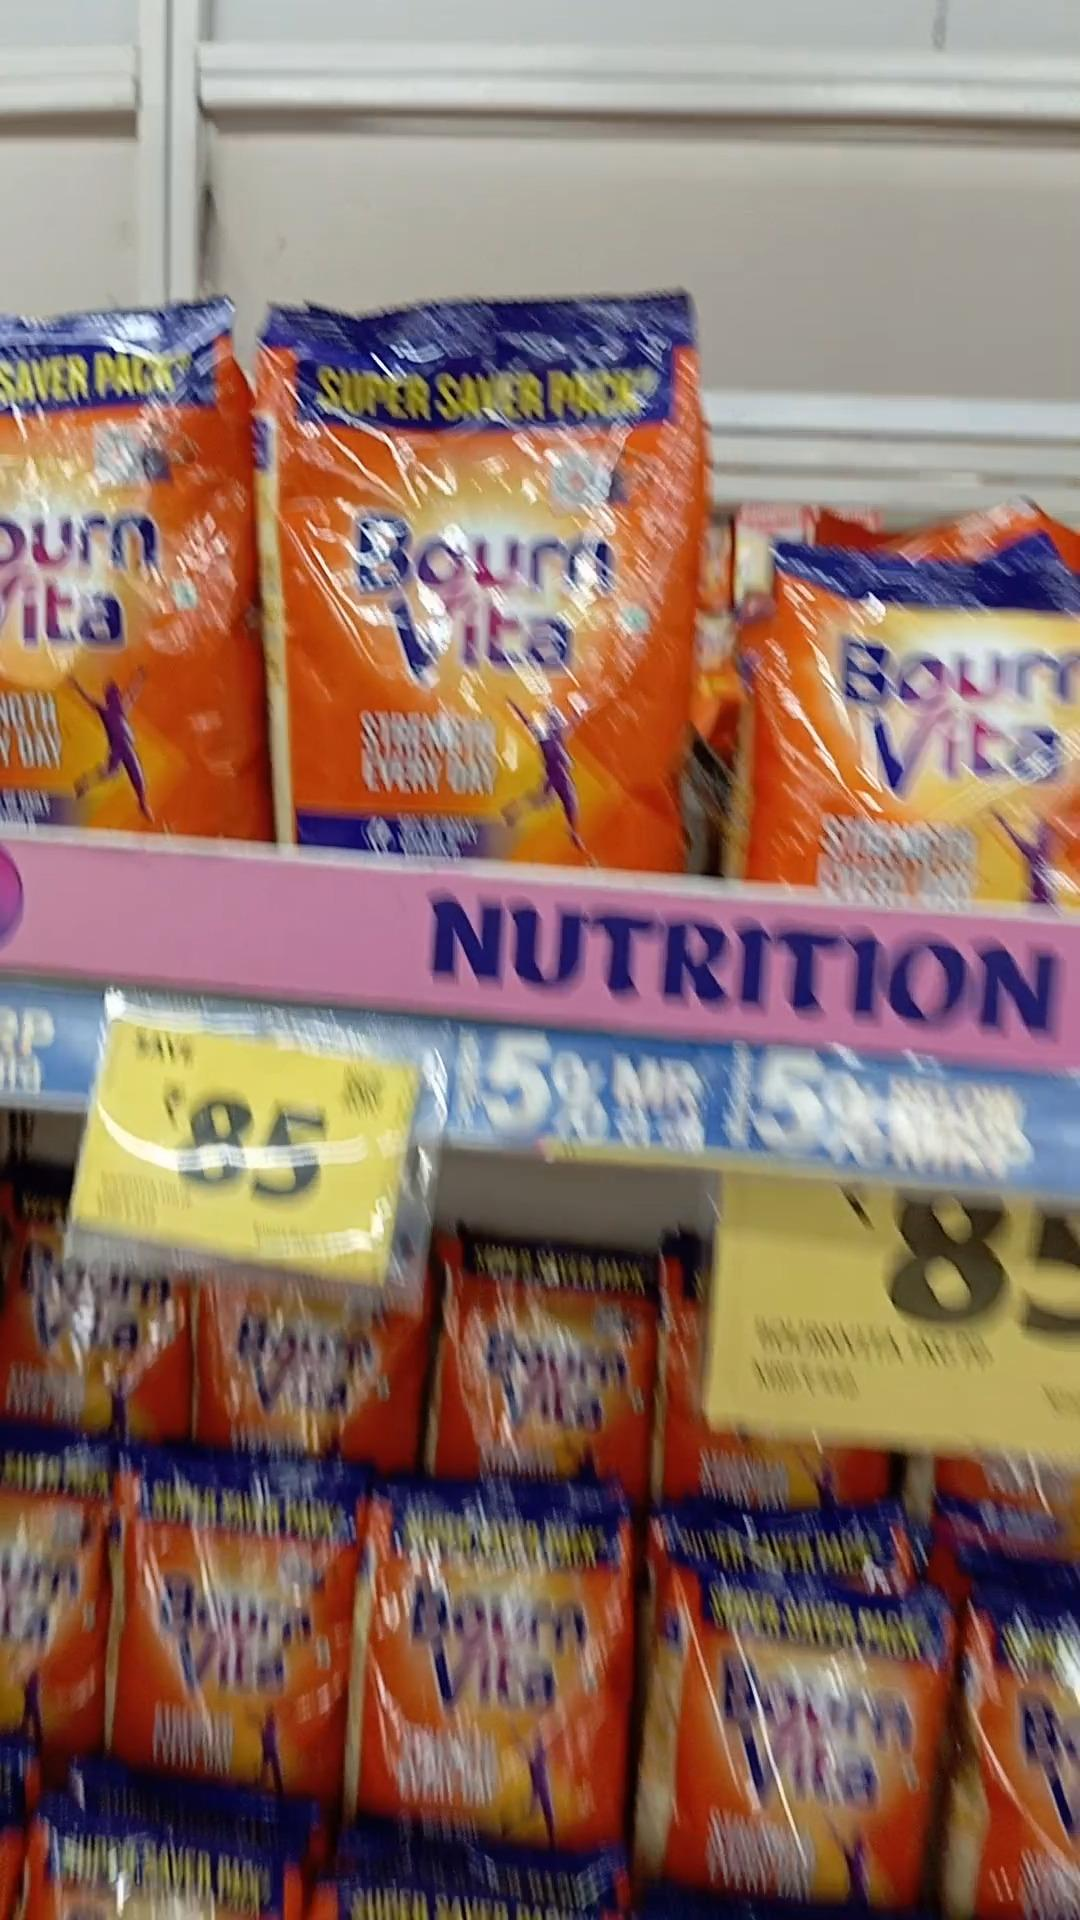BOURN_VITA_1_KG_POUCH: (273, 305, 690, 852), (658, 1531, 932, 1920), (369, 1480, 620, 1824), (121, 1449, 343, 1778)
